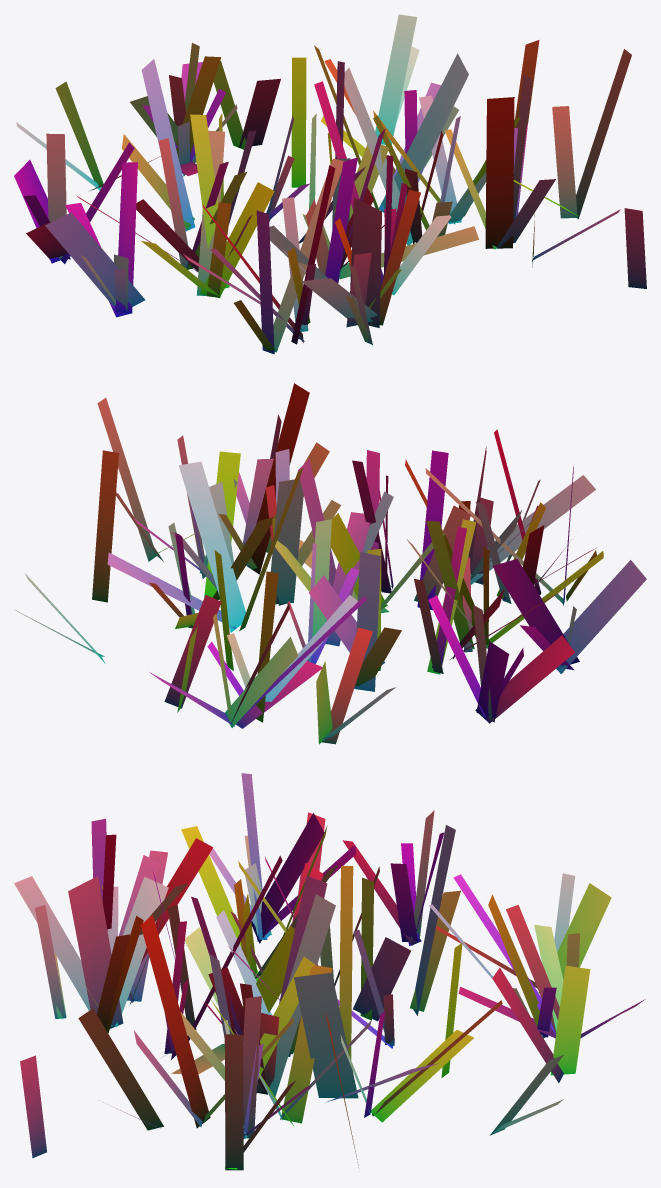
Rendered from Grass_Clumps_qmBr2_Low_qmBr2_VarB_LOD1.fbx.
3 views of the same model, one above another, from view 1: azimuth 30°, elevation 25°; view 2: azimuth 150°, elevation 25°; view 3: azimuth 270°, elevation 25° (orthographic). The views are drawn at different scales.
Visible parts, largest first — view 1: _b2ca_VarB_LOD2; view 2: _b2ca_VarB_LOD2; view 3: _b2ca_VarB_LOD2.
Boxes of the visible parts, x1=… form: _b2ca_VarB_LOD2: x1=14, y1=14, x2=646, y2=354; _b2ca_VarB_LOD2: x1=15, y1=383, x2=646, y2=744; _b2ca_VarB_LOD2: x1=14, y1=773, x2=645, y2=1170.
Size of the model in its own units: 75.29 by 23.13 by 66.44.
